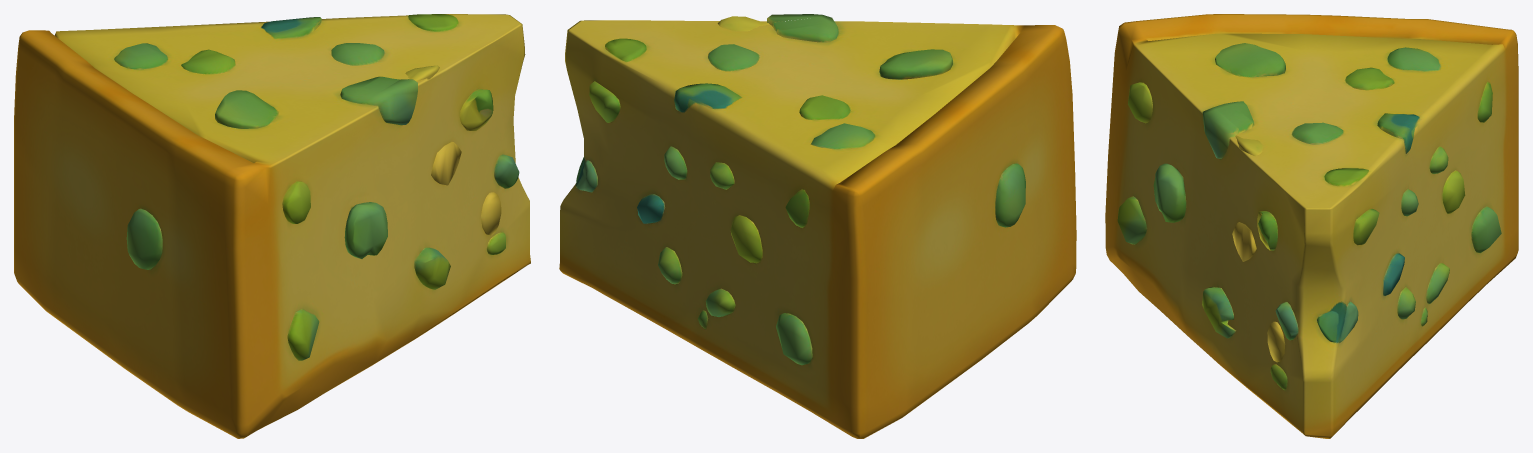
The model's file is cheese-rot.glb.
3 views of the same model, side by side, from view 1: azimuth 30°, elevation 25°; view 2: azimuth 150°, elevation 25°; view 3: azimuth 270°, elevation 25° (orthographic). The views are drawn at different scales.
Parts seen in each view (by area): view 1: tripo_node_8c62f89c-a2db-405d-b273-b8129827ae42; view 2: tripo_node_8c62f89c-a2db-405d-b273-b8129827ae42; view 3: tripo_node_8c62f89c-a2db-405d-b273-b8129827ae42.
Part boxes in pixels (box(x1,y1,x2,y2)): tripo_node_8c62f89c-a2db-405d-b273-b8129827ae42: box(14, 14, 530, 438); tripo_node_8c62f89c-a2db-405d-b273-b8129827ae42: box(559, 14, 1076, 438); tripo_node_8c62f89c-a2db-405d-b273-b8129827ae42: box(1105, 14, 1518, 438).
Bounding box in the file's own units: 0.9995 × 0.6011 × 0.9116.
1 material, 1 textured.
